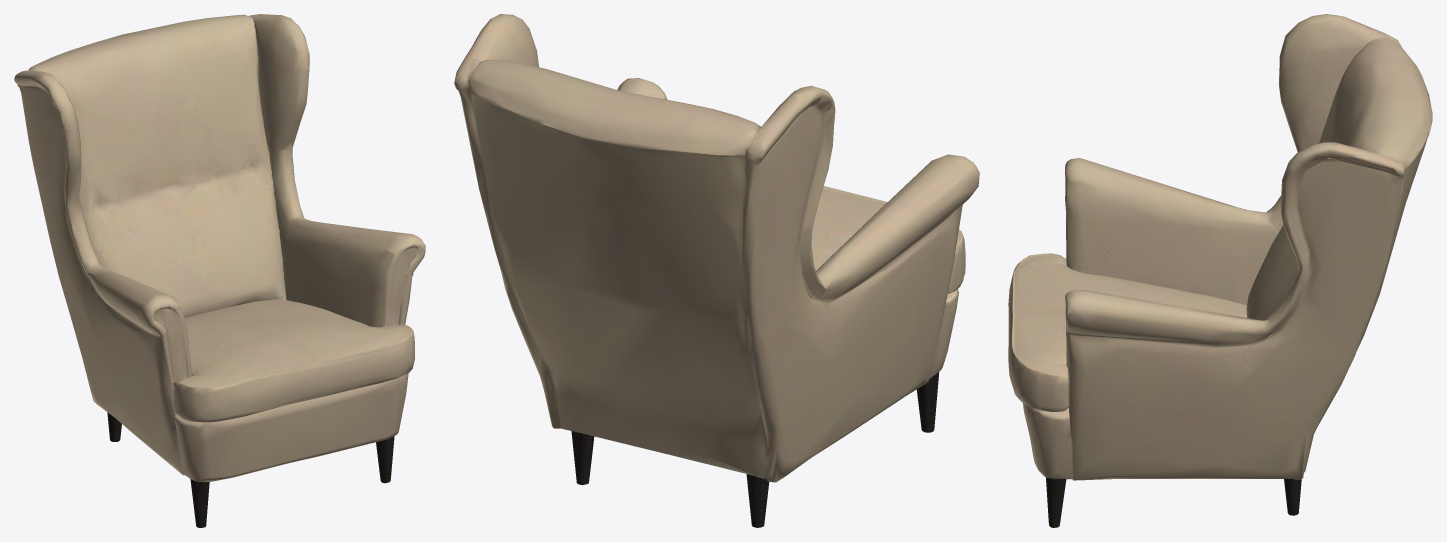
Rendered from ikea-strandmon-wing-chair-tommaboda-deep-beige-demo.glb.
3 renders of one model, left to right at view 1: azimuth 30°, elevation 25°; view 2: azimuth 150°, elevation 25°; view 3: azimuth 270°, elevation 25°, orthographic. The views are drawn at different scales.
Parts seen in each view (by area): view 1: ASY_ART_50613163_S01_NV01; view 2: ASY_ART_50613163_S01_NV01; view 3: ASY_ART_50613163_S01_NV01.
Part boxes in pixels (x1,y1,x2,y2): ASY_ART_50613163_S01_NV01: [14, 14, 425, 527]; ASY_ART_50613163_S01_NV01: [454, 14, 979, 527]; ASY_ART_50613163_S01_NV01: [1008, 14, 1432, 527].
Size of the model in its own units: 0.8137 by 1.01 by 0.9784.
1 material, 1 textured.
